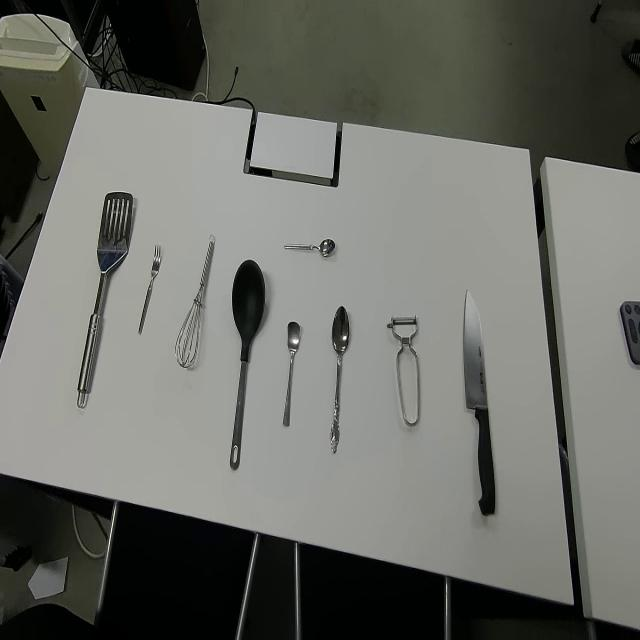Desert-Spoon: (329, 304, 350, 454)
Dinner-Fork: (137, 242, 162, 338)
Kitchen-Knife: (463, 288, 496, 516)
Peeler: (386, 312, 420, 426)
Serving-Spoon: (75, 190, 134, 410), (229, 257, 268, 471)
Tea-Spoon: (282, 319, 302, 428), (282, 236, 336, 259)
Whisk: (175, 235, 216, 372)
